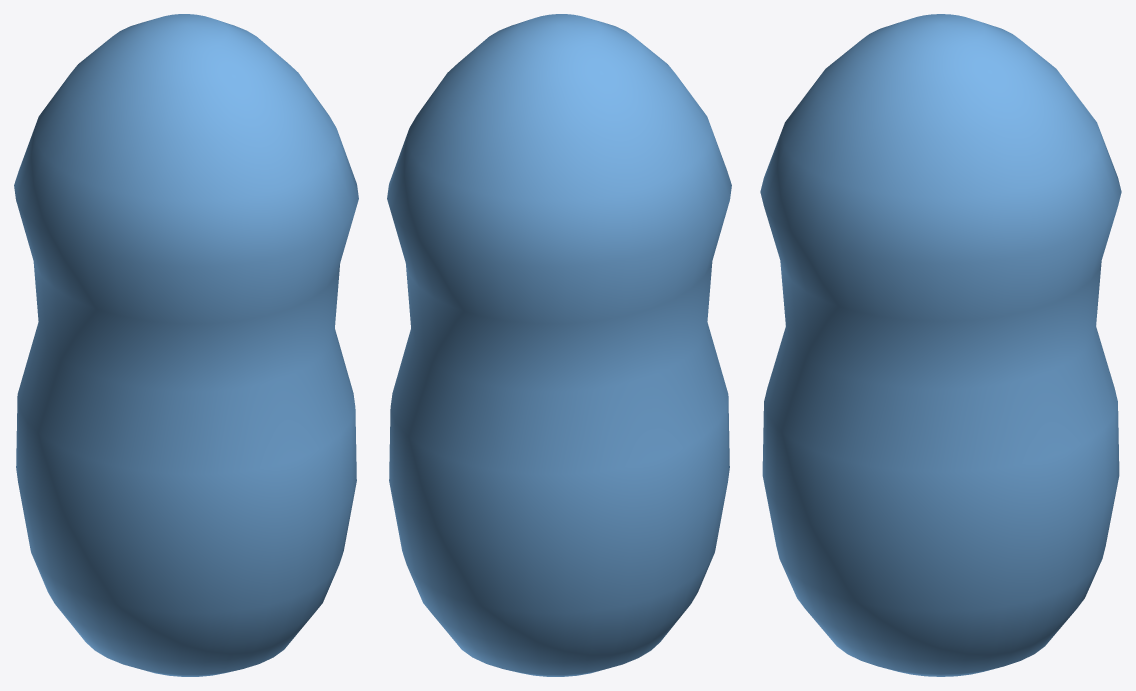
The model's file is lleg.gltf.
The picture shows the model from 3 angles, left to right: view 1: azimuth 30°, elevation 25°; view 2: azimuth 150°, elevation 25°; view 3: azimuth 270°, elevation 25°; orthographic projection.
Visible parts, largest first — view 1: Sphere.054; view 2: Sphere.054; view 3: Sphere.054.
Part boxes in pixels (x1,y1,x2,y2): Sphere.054: (14, 14, 358, 676); Sphere.054: (387, 14, 731, 676); Sphere.054: (760, 14, 1121, 676).
Size of the model in its own units: 0.13 by 0.2672 by 0.1377.
